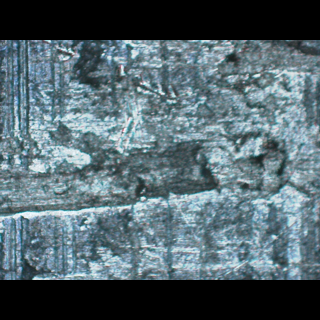d: (0, 116, 294, 227)
